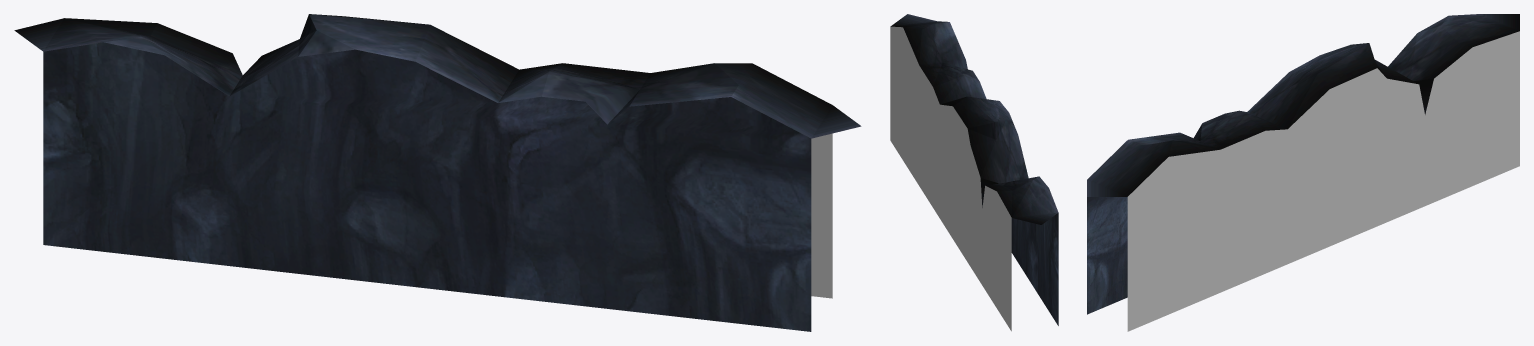
Rendered from mine_broken_diagonal_02.fbx.
3 renders of one model, left to right at view 1: azimuth 30°, elevation 25°; view 2: azimuth 150°, elevation 25°; view 3: azimuth 270°, elevation 25°, orthographic. The views are drawn at different scales.
Visible parts, largest first — view 1: obj2.009; view 2: obj2.009; view 3: obj2.009.
Part boxes in pixels (bbox=[...]): obj2.009: bbox=[14, 14, 861, 331]; obj2.009: bbox=[890, 14, 1058, 331]; obj2.009: bbox=[1087, 14, 1519, 331].
Size of the model in its own units: 4 by 1.73 by 4.
